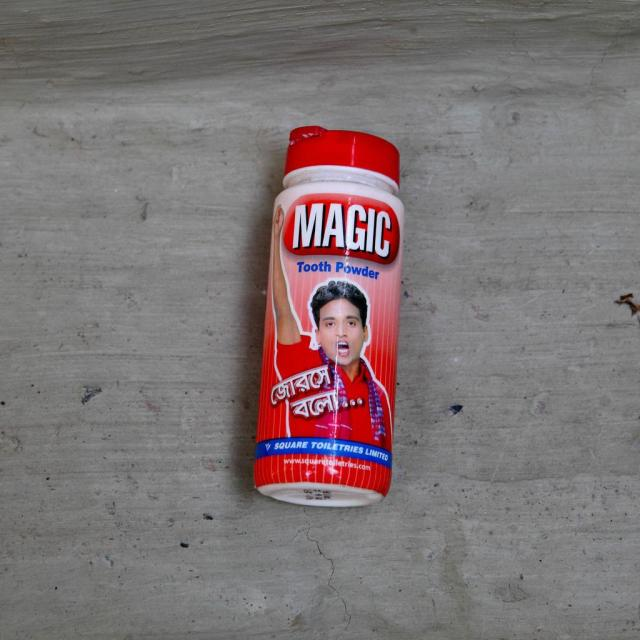Toothpaste: (248, 118, 413, 514)
